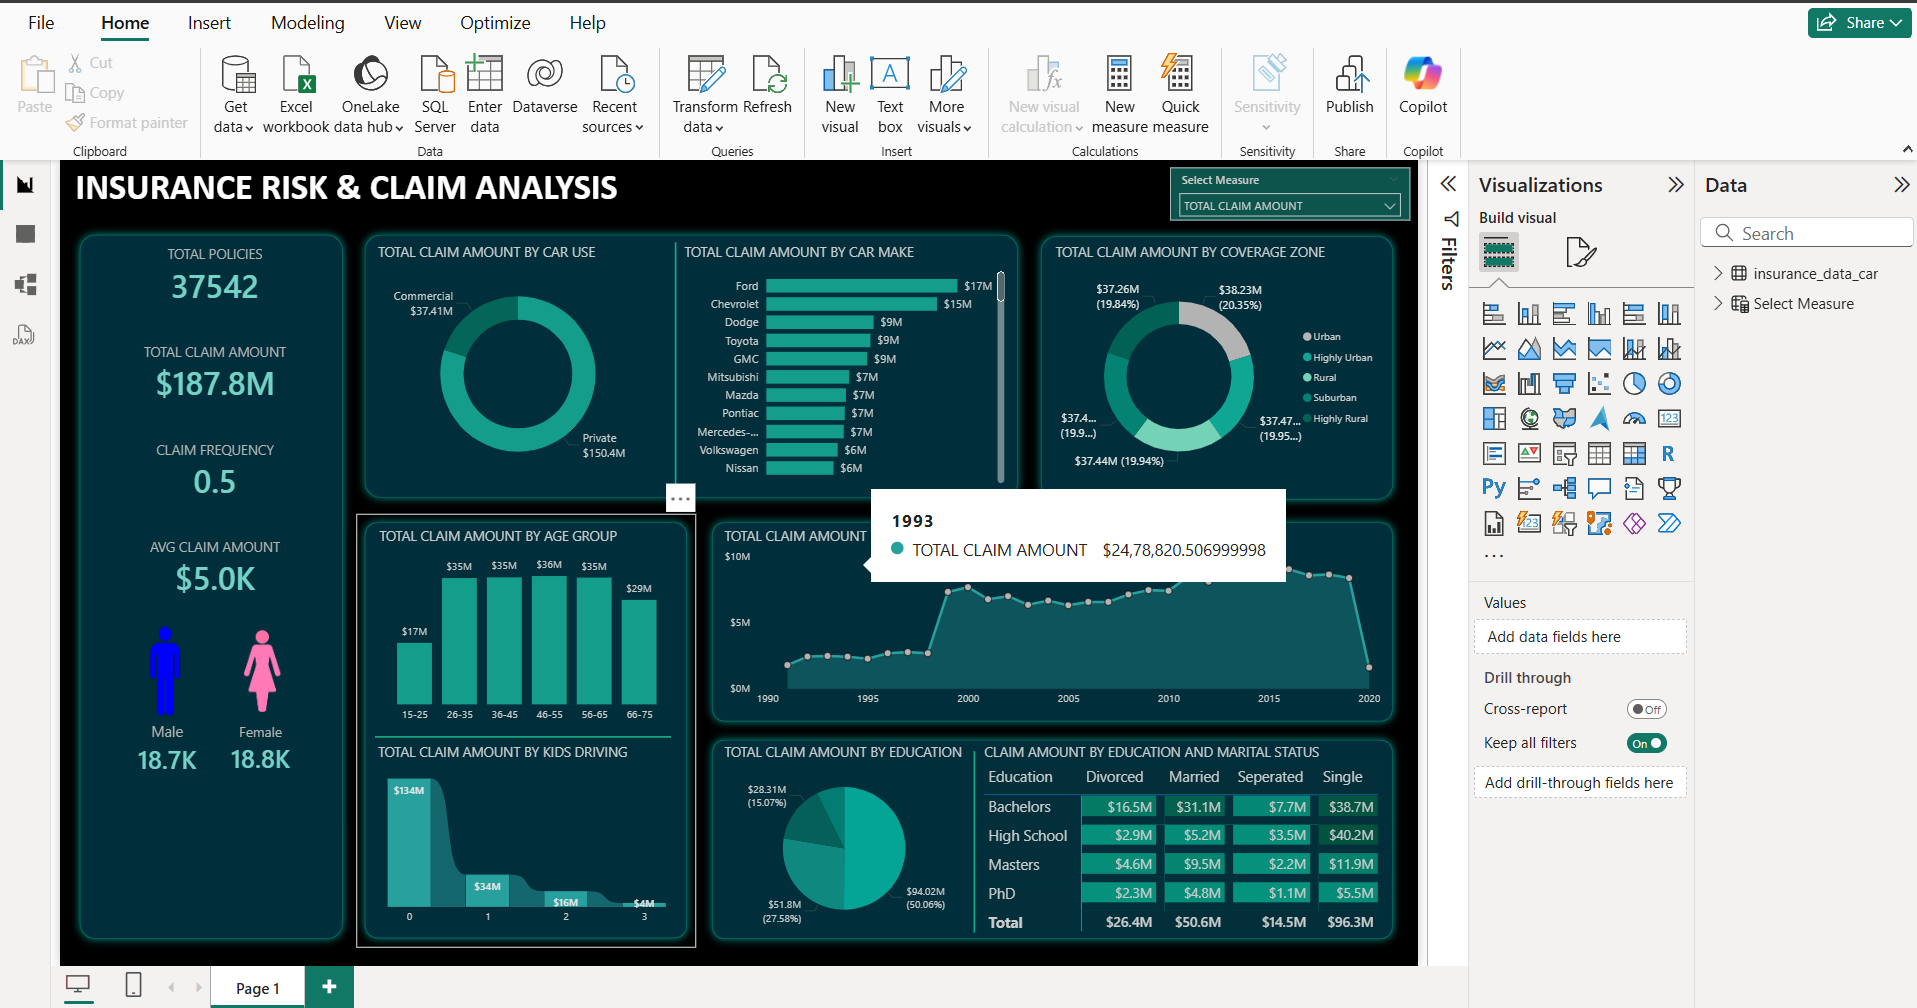

What the dashboard file says about the page in this screenshot:
{"tool":"powerbi","page":{"name":"Page 1","canvas":[1600,950],"ordinal":0},"visuals":[{"type":"textbox","box":[13.3,0,666.7,63.3],"z":0},{"type":"shape","box":[13.3,78.1,330,850.1],"z":1000},{"type":"cardVisual","fields":{"Data":["insurance_data_car.TOTAL POLICIES","insurance_data_car.TOTAL CLAIM AMOUNT","Avg(insurance_data_car.Claim Freq)","insurance_data_car.AVG CLAIM AMOUNT"]},"box":[45.7,82.5,274,453.8],"z":2000},{"type":"cardVisual","fields":{"Data":["insurance_data_car.Male count","insurance_data_car.Female count"]},"box":[65.7,644.7,231.3,79.6],"z":3000},{"type":"image","box":[65.7,544.5,114.9,114.9],"z":4000},{"type":"image","box":[180.6,544.5,114.9,114.9],"z":5000},{"type":"slicer","fields":{"Values":["Select Measure.Select Measure"]},"box":[1308.6,8.6,282.9,62.1],"z":6000},{"type":"shape","box":[349.3,77.9,790,330],"z":7000},{"type":"donutChart","title":"TOTAL CLAIM AMOUNT BY CAR USE","fields":{"Y":["insurance_data_car.TOTAL CLAIM AMOUNT"],"Category":["insurance_data_car.Car Use"]},"box":[369.8,97.2,340.3,288.8],"z":8000},{"type":"clusteredBarChart","title":"TOTAL CLAIM AMOUNT BY CAR MAKE","fields":{"Category":["insurance_data_car.Car Make"],"Y":["insurance_data_car.TOTAL CLAIM AMOUNT"]},"box":[730.8,97.2,387.5,288.8],"z":9000},{"type":"shape","box":[720.5,97.2,10.3,288.8],"z":10000},{"type":"shape","box":[1145.8,79.2,435,330.8],"z":11000},{"type":"donutChart","title":"TOTAL CLAIM AMOUNT BY COVERAGE ZONE","fields":{"Y":["insurance_data_car.TOTAL CLAIM AMOUNT"],"Category":["insurance_data_car.Coverage Zone"]},"box":[1168.4,97.2,393.4,294.7],"z":12000},{"type":"shape","box":[349.4,417.1,400,510.6],"z":13000},{"type":"clusteredColumnChart","title":"TOTAL CLAIM AMOUNT BY AGE GROUP","fields":{"Category":["insurance_data_car.Age Group"],"Y":["insurance_data_car.TOTAL CLAIM AMOUNT"]},"box":[371.3,431.7,359.5,240.2],"z":14000},{"type":"ribbonChart","title":"TOTAL CLAIM AMOUNT BY KIDS DRIVING","fields":{"Y":["insurance_data_car.TOTAL CLAIM AMOUNT"],"Category":["insurance_data_car.Kids Driving"]},"box":[369.8,686.6,361,223.9],"z":15000},{"type":"shape","box":[758.8,417,822.1,254.9],"z":16000},{"type":"areaChart","title":"TOTAL CLAIM AMOUNT BY CAR YEAR","fields":{"Y":["insurance_data_car.TOTAL CLAIM AMOUNT"],"Category":["insurance_data_car.Car Year"]},"box":[778.3,431.7,783.3,221.7],"z":17000},{"type":"shape","box":[758.8,673.3,822.1,254.9],"z":18000},{"type":"pieChart","title":"TOTAL CLAIM AMOUNT BY EDUCATION","fields":{"Y":["insurance_data_car.TOTAL CLAIM AMOUNT"],"Category":["insurance_data_car.Education"]},"box":[777.9,686.6,293.2,228.4],"z":19000},{"type":"pivotTable","title":"CLAIM AMOUNT BY EDUCATION AND MARITAL STATUS","fields":{"Rows":["insurance_data_car.Education"],"Columns":["insurance_data_car.Marital Status"],"Values":["insurance_data_car.TOTAL CLAIM AMOUNT"]},"box":[1084.4,686.6,477.4,228.4],"z":20000},{"type":"shape","box":[1071.1,696.9,13.3,213.6],"z":21000},{"type":"shape","box":[371.3,673.3,349.2,13.3],"z":22000}]}

Visuals, with their boxes on the page's 1600x950 design canvas (x1, y1, x2, y2). These are canvas units, not pixel positions in the 1917x1008 screenshot, which may show the page scaled, cropped or inside an application window:
textbox: Rect(13, 0, 680, 63)
shape: Rect(13, 78, 343, 928)
cardVisual - insurance_data_car.TOTAL POLICIES x insurance_data_car.TOTAL CLAIM AMOUNT: Rect(46, 82, 320, 536)
cardVisual - insurance_data_car.Male count x insurance_data_car.Female count: Rect(66, 645, 297, 724)
image: Rect(66, 544, 181, 659)
image: Rect(181, 544, 296, 659)
slicer - Select Measure.Select Measure: Rect(1309, 9, 1592, 71)
shape: Rect(349, 78, 1139, 408)
"TOTAL CLAIM AMOUNT BY CAR USE" donutChart: Rect(370, 97, 710, 386)
"TOTAL CLAIM AMOUNT BY CAR MAKE" clusteredBarChart: Rect(731, 97, 1118, 386)
shape: Rect(720, 97, 731, 386)
shape: Rect(1146, 79, 1581, 410)
"TOTAL CLAIM AMOUNT BY COVERAGE ZONE" donutChart: Rect(1168, 97, 1562, 392)
shape: Rect(349, 417, 749, 928)
"TOTAL CLAIM AMOUNT BY AGE GROUP" clusteredColumnChart: Rect(371, 432, 731, 672)
"TOTAL CLAIM AMOUNT BY KIDS DRIVING" ribbonChart: Rect(370, 687, 731, 910)
shape: Rect(759, 417, 1581, 672)
"TOTAL CLAIM AMOUNT BY CAR YEAR" areaChart: Rect(778, 432, 1562, 653)
shape: Rect(759, 673, 1581, 928)
"TOTAL CLAIM AMOUNT BY EDUCATION" pieChart: Rect(778, 687, 1071, 915)
"CLAIM AMOUNT BY EDUCATION AND MARITAL STATUS" pivotTable: Rect(1084, 687, 1562, 915)
shape: Rect(1071, 697, 1084, 910)
shape: Rect(371, 673, 720, 687)
